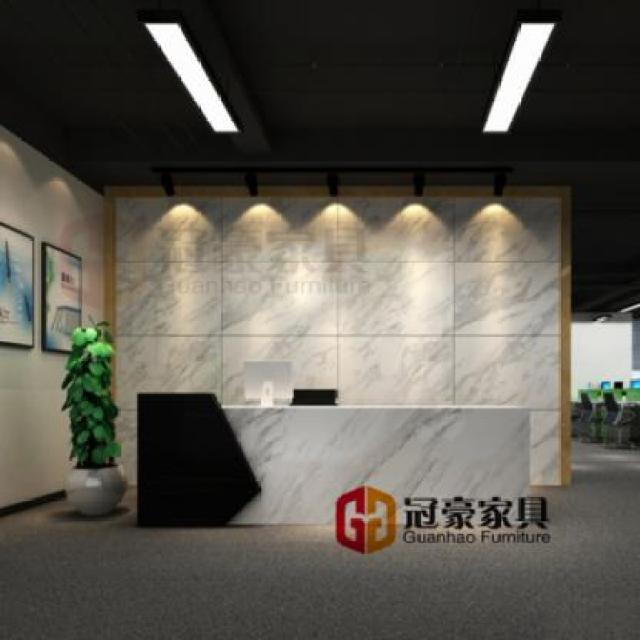frontdesk: (126, 380, 542, 542)
